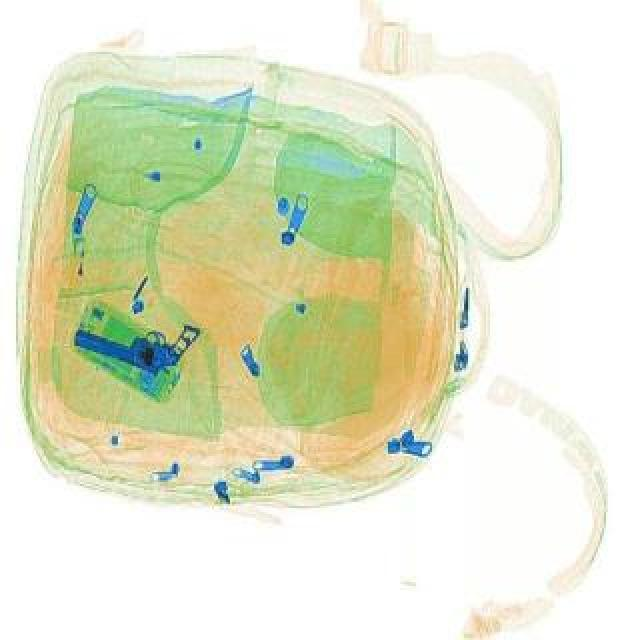gun: (70, 288, 202, 380)
